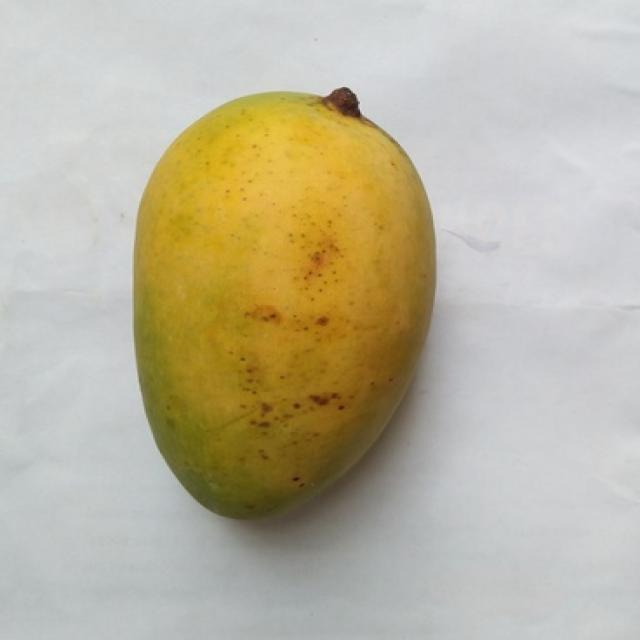Mango: (136, 91, 433, 516)
